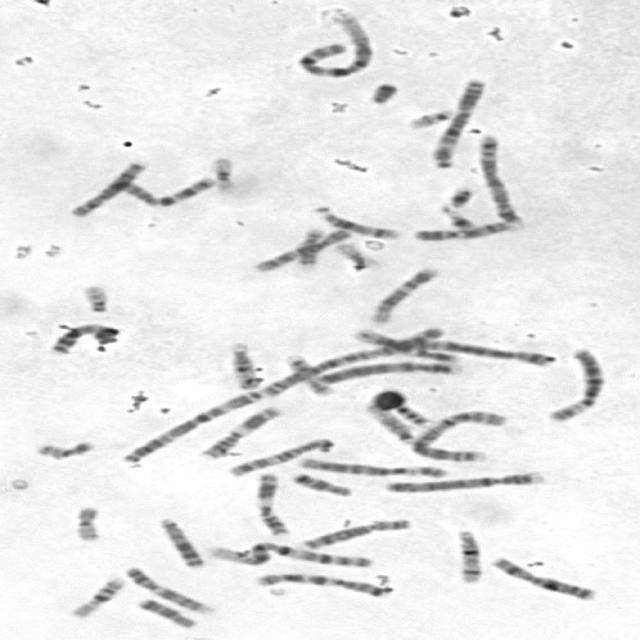A1: (289, 9, 379, 79), (196, 538, 377, 569)
A2: (252, 324, 450, 396), (406, 406, 512, 463)
A3: (115, 386, 264, 465), (422, 75, 490, 170)
B4: (302, 358, 467, 395), (379, 466, 549, 494)
B5: (347, 325, 559, 367), (473, 131, 528, 226)
C10: (246, 224, 354, 274), (222, 434, 337, 477)
C11: (193, 402, 285, 460), (249, 468, 293, 536)
C12: (365, 263, 443, 325), (348, 325, 464, 364)
C6: (541, 344, 609, 423), (293, 453, 451, 479)
C7: (104, 168, 220, 208), (248, 569, 393, 598)
C8: (63, 158, 150, 218), (293, 515, 416, 550)
C9: (118, 562, 216, 616), (408, 217, 520, 243)
D13: (152, 513, 207, 569), (50, 326, 121, 356)
D14: (308, 202, 404, 241), (448, 525, 486, 585)
D15: (364, 403, 419, 445), (222, 339, 264, 391)
E16: (64, 574, 129, 619), (290, 224, 328, 268)
E17: (278, 351, 336, 397), (393, 402, 438, 428)
E18: (131, 594, 199, 629), (285, 469, 356, 497)
F19: (330, 238, 377, 272), (204, 153, 240, 193)
F20: (28, 436, 98, 461), (68, 502, 105, 543)
G21: (434, 202, 480, 232), (441, 183, 477, 209)
G22: (401, 105, 457, 129), (76, 280, 113, 314)
X: (486, 553, 603, 602)
Y: (362, 78, 402, 105)
